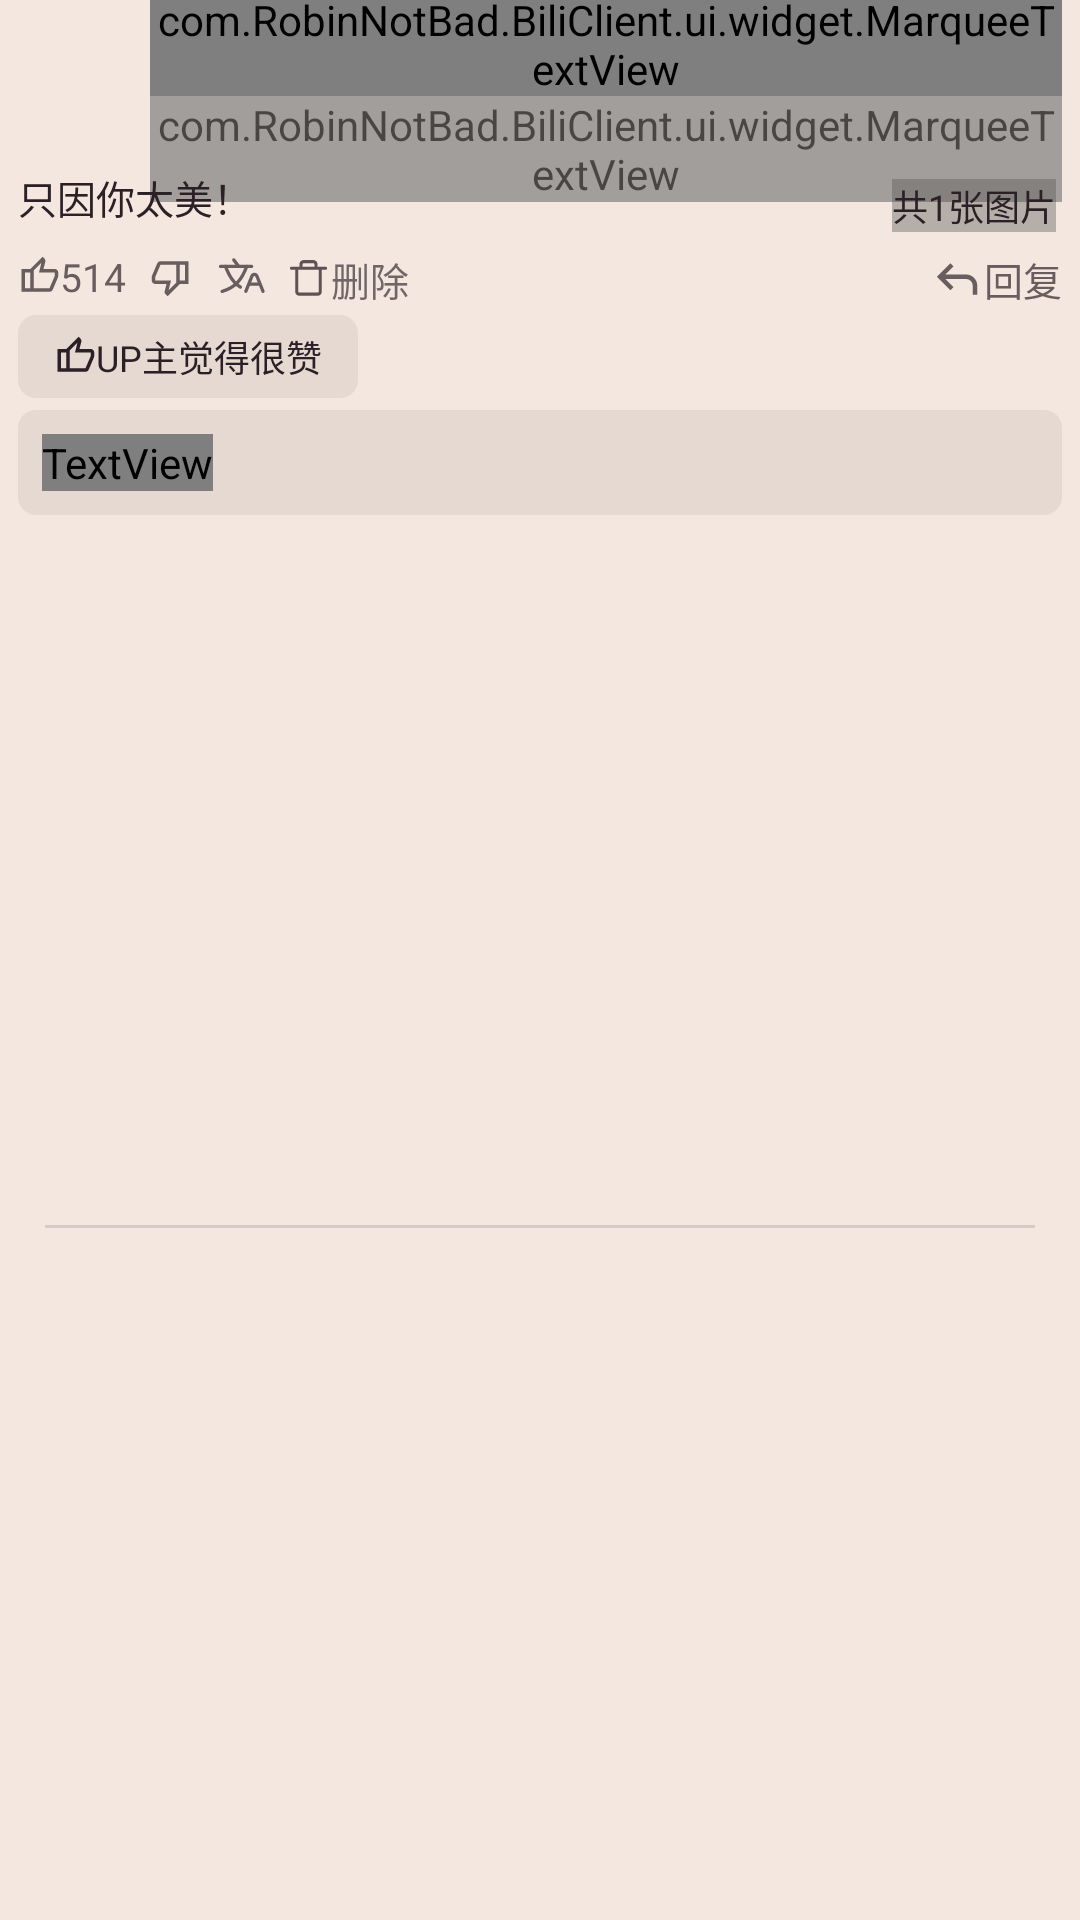

Icon bounding boxes for this 1080px x 1920px phone screenshot, format (x1, y1, x2, y2):
dislike: (151, 261, 189, 296)
翻译: (219, 258, 265, 293)
